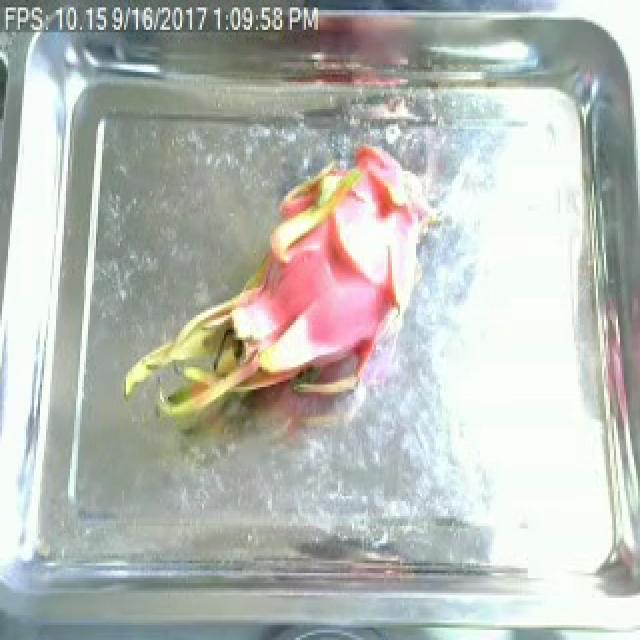fruit: (112, 124, 414, 471)
